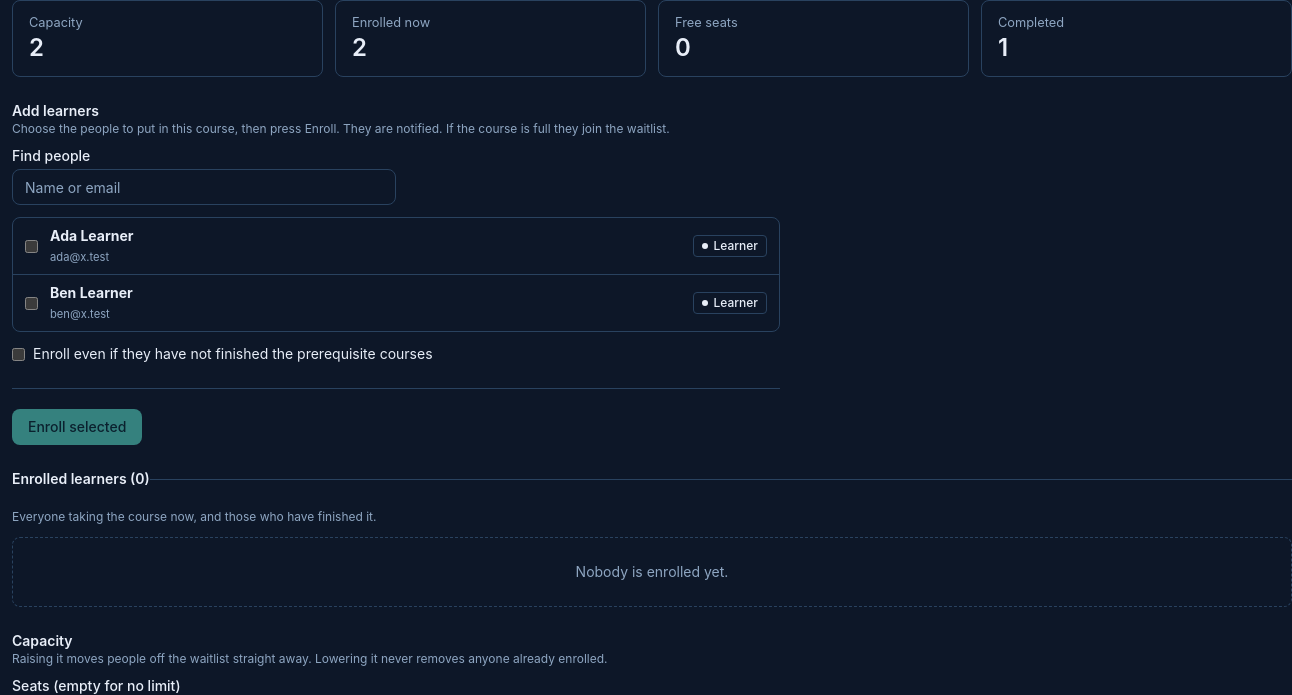
Scenario: adding learners to a course › shows the server message when enrolling fails
Step 1. Click the checkbox labelled "Ada Learner ada@x.test Learner" → (32, 246), box 25,240 -> 38,253
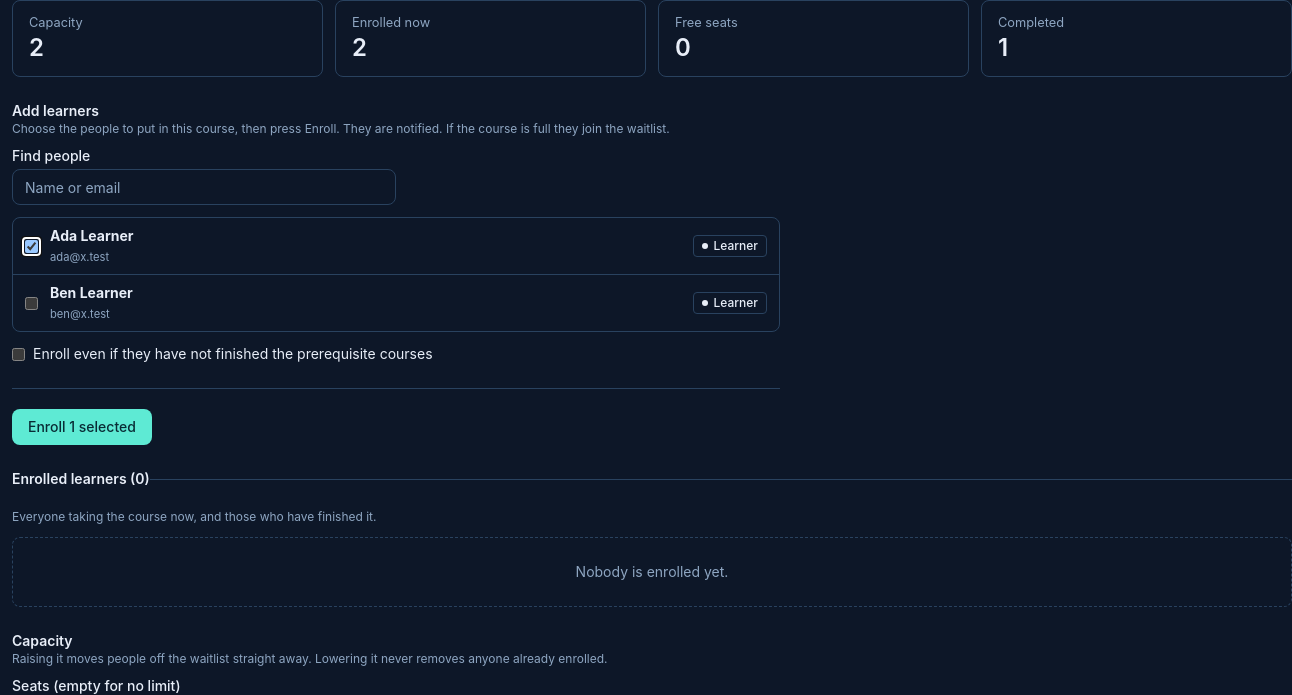
Step 2. Click the button "Enroll 1 selected" → (82, 427), box 12,409 -> 152,445
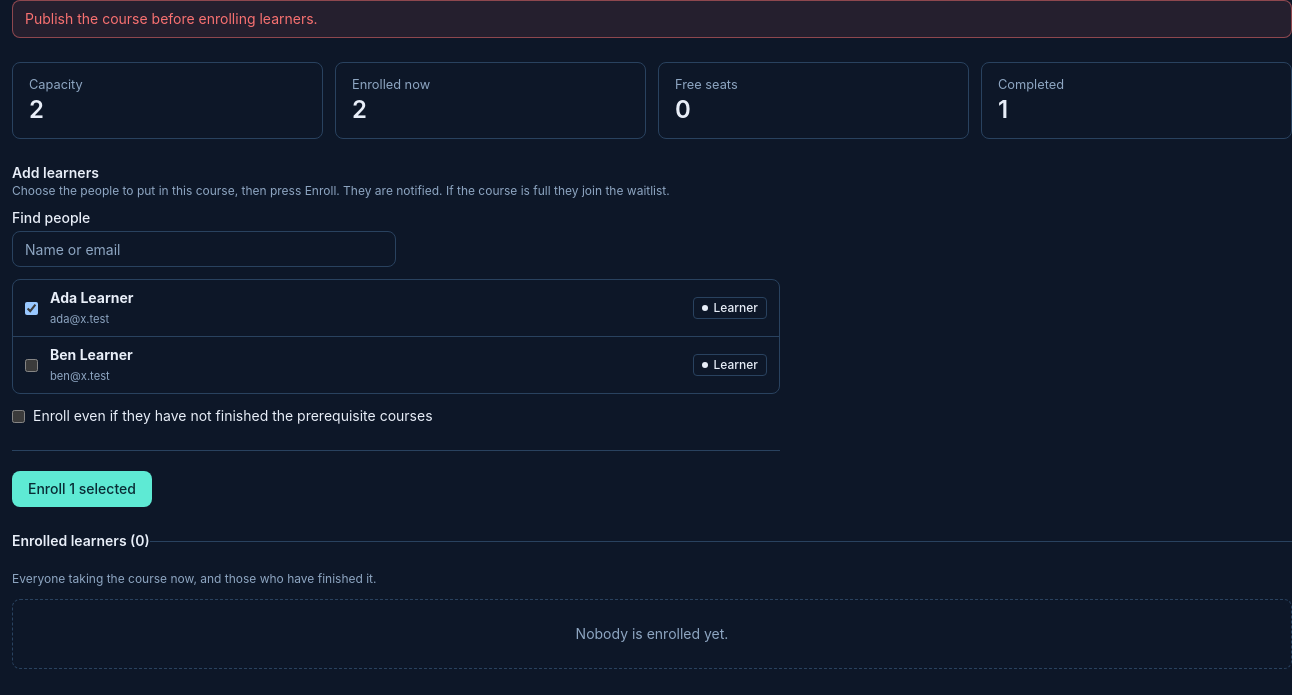
Now the text "Publish the course before enrolling learners." is shown, box 12,0 -> 1291,38
